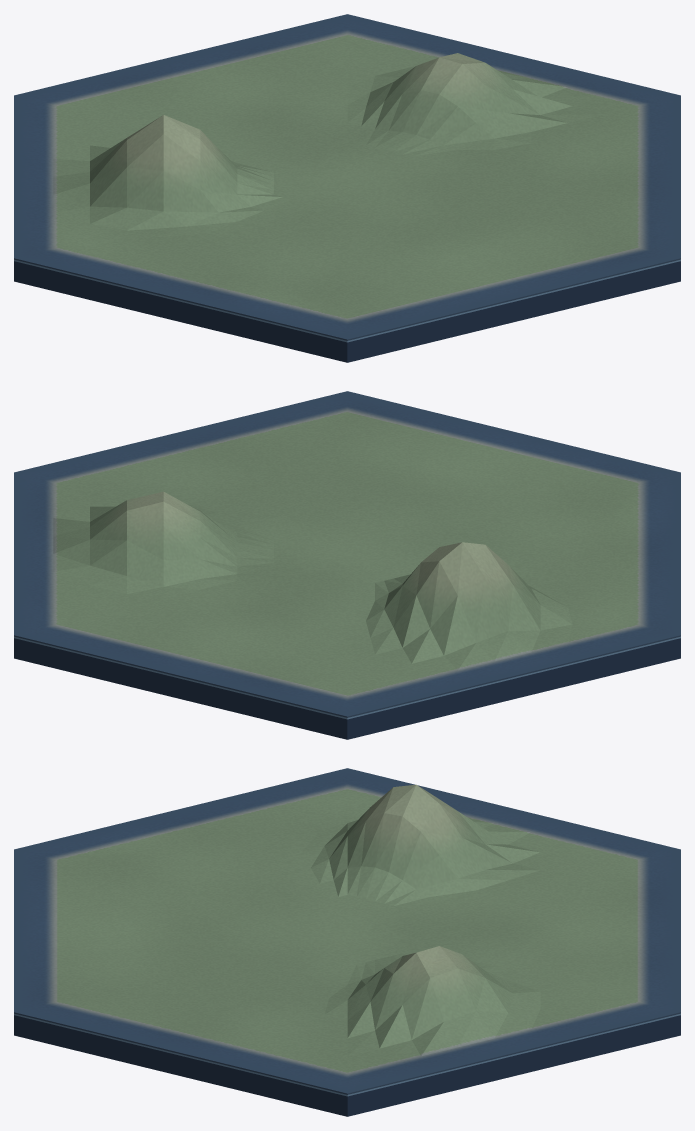
Rendered from campus_tile_hill_v01.glb.
3 renders of one model, top to bottom at view 1: azimuth 30°, elevation 25°; view 2: azimuth 150°, elevation 25°; view 3: azimuth 270°, elevation 25°, orthographic.
Visible parts, largest first — view 1: campus_tile_hill; view 2: campus_tile_hill; view 3: campus_tile_hill.
Boxes of the visible parts, x1,y1,x2,y2 form: campus_tile_hill: (14, 14, 680, 362); campus_tile_hill: (14, 391, 680, 739); campus_tile_hill: (14, 768, 680, 1116).
Bounding box in the file's own units: 36 × 4.98 × 31.18.
Materials: 1 (1 with a texture image).
